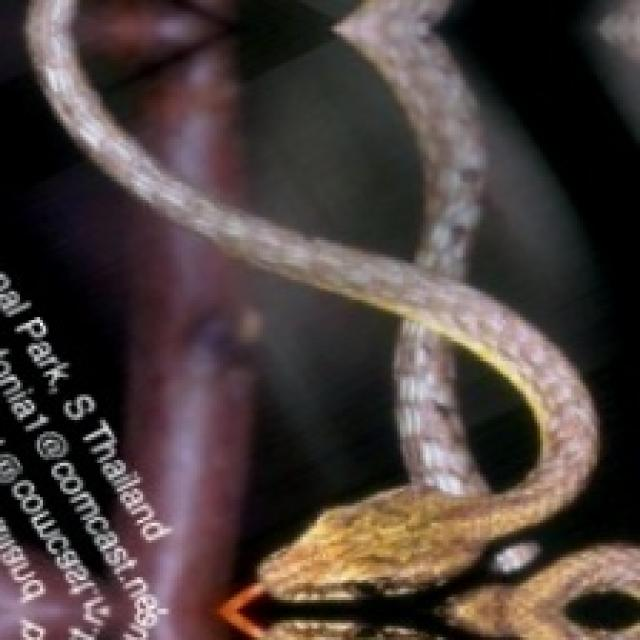philippine whip snake: (26, 0, 637, 637)
